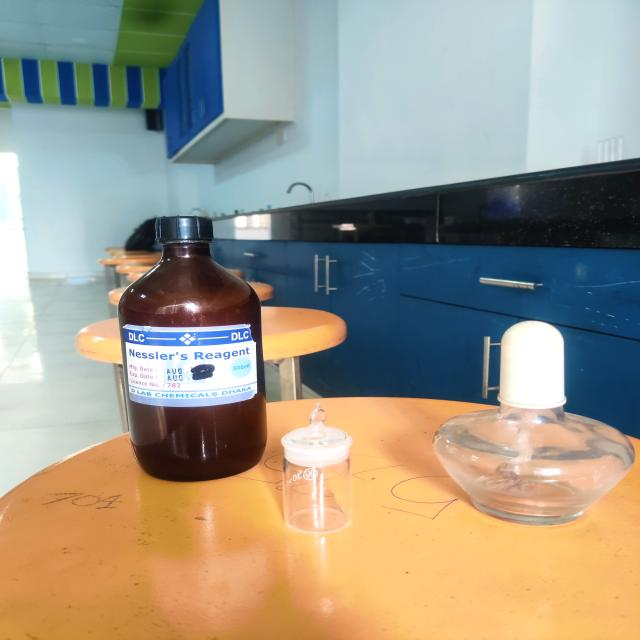Nessler_Reagent_Bottle: (105, 200, 275, 491)
Spirit_Lamp: (424, 304, 640, 553)
Weighing_Bottle: (275, 390, 369, 550)
